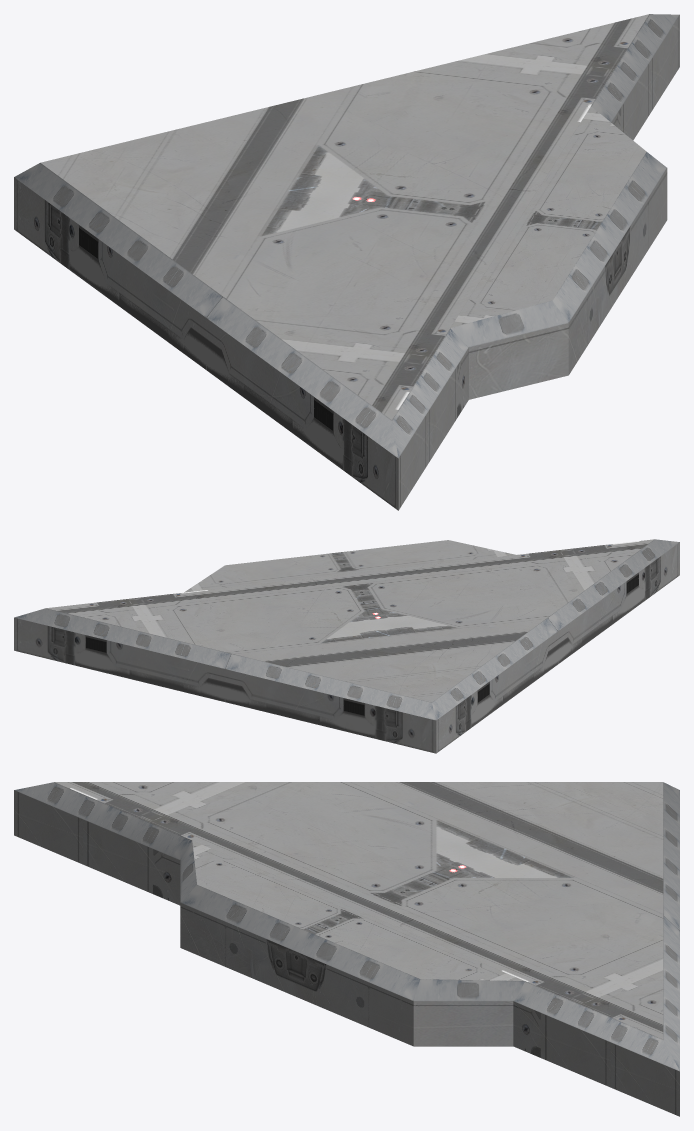
Rendered from SM_FloorHalf4.fbx.
3 views of the same model, one above another, from view 1: azimuth 30°, elevation 25°; view 2: azimuth 150°, elevation 25°; view 3: azimuth 270°, elevation 25° (orthographic). The views are drawn at different scales.
Visible parts, largest first — view 1: SM_FloorHalf4_LOD0; view 2: SM_FloorHalf4_LOD0; view 3: SM_FloorHalf4_LOD0.
Part boxes in pixels (left/top/right/bottom): SM_FloorHalf4_LOD0: left=14, top=14, right=679, bottom=510; SM_FloorHalf4_LOD0: left=14, top=539, right=679, bottom=753; SM_FloorHalf4_LOD0: left=14, top=782, right=679, bottom=1116.
Bounding box in the file's own units: 200 × 200 × 20.
